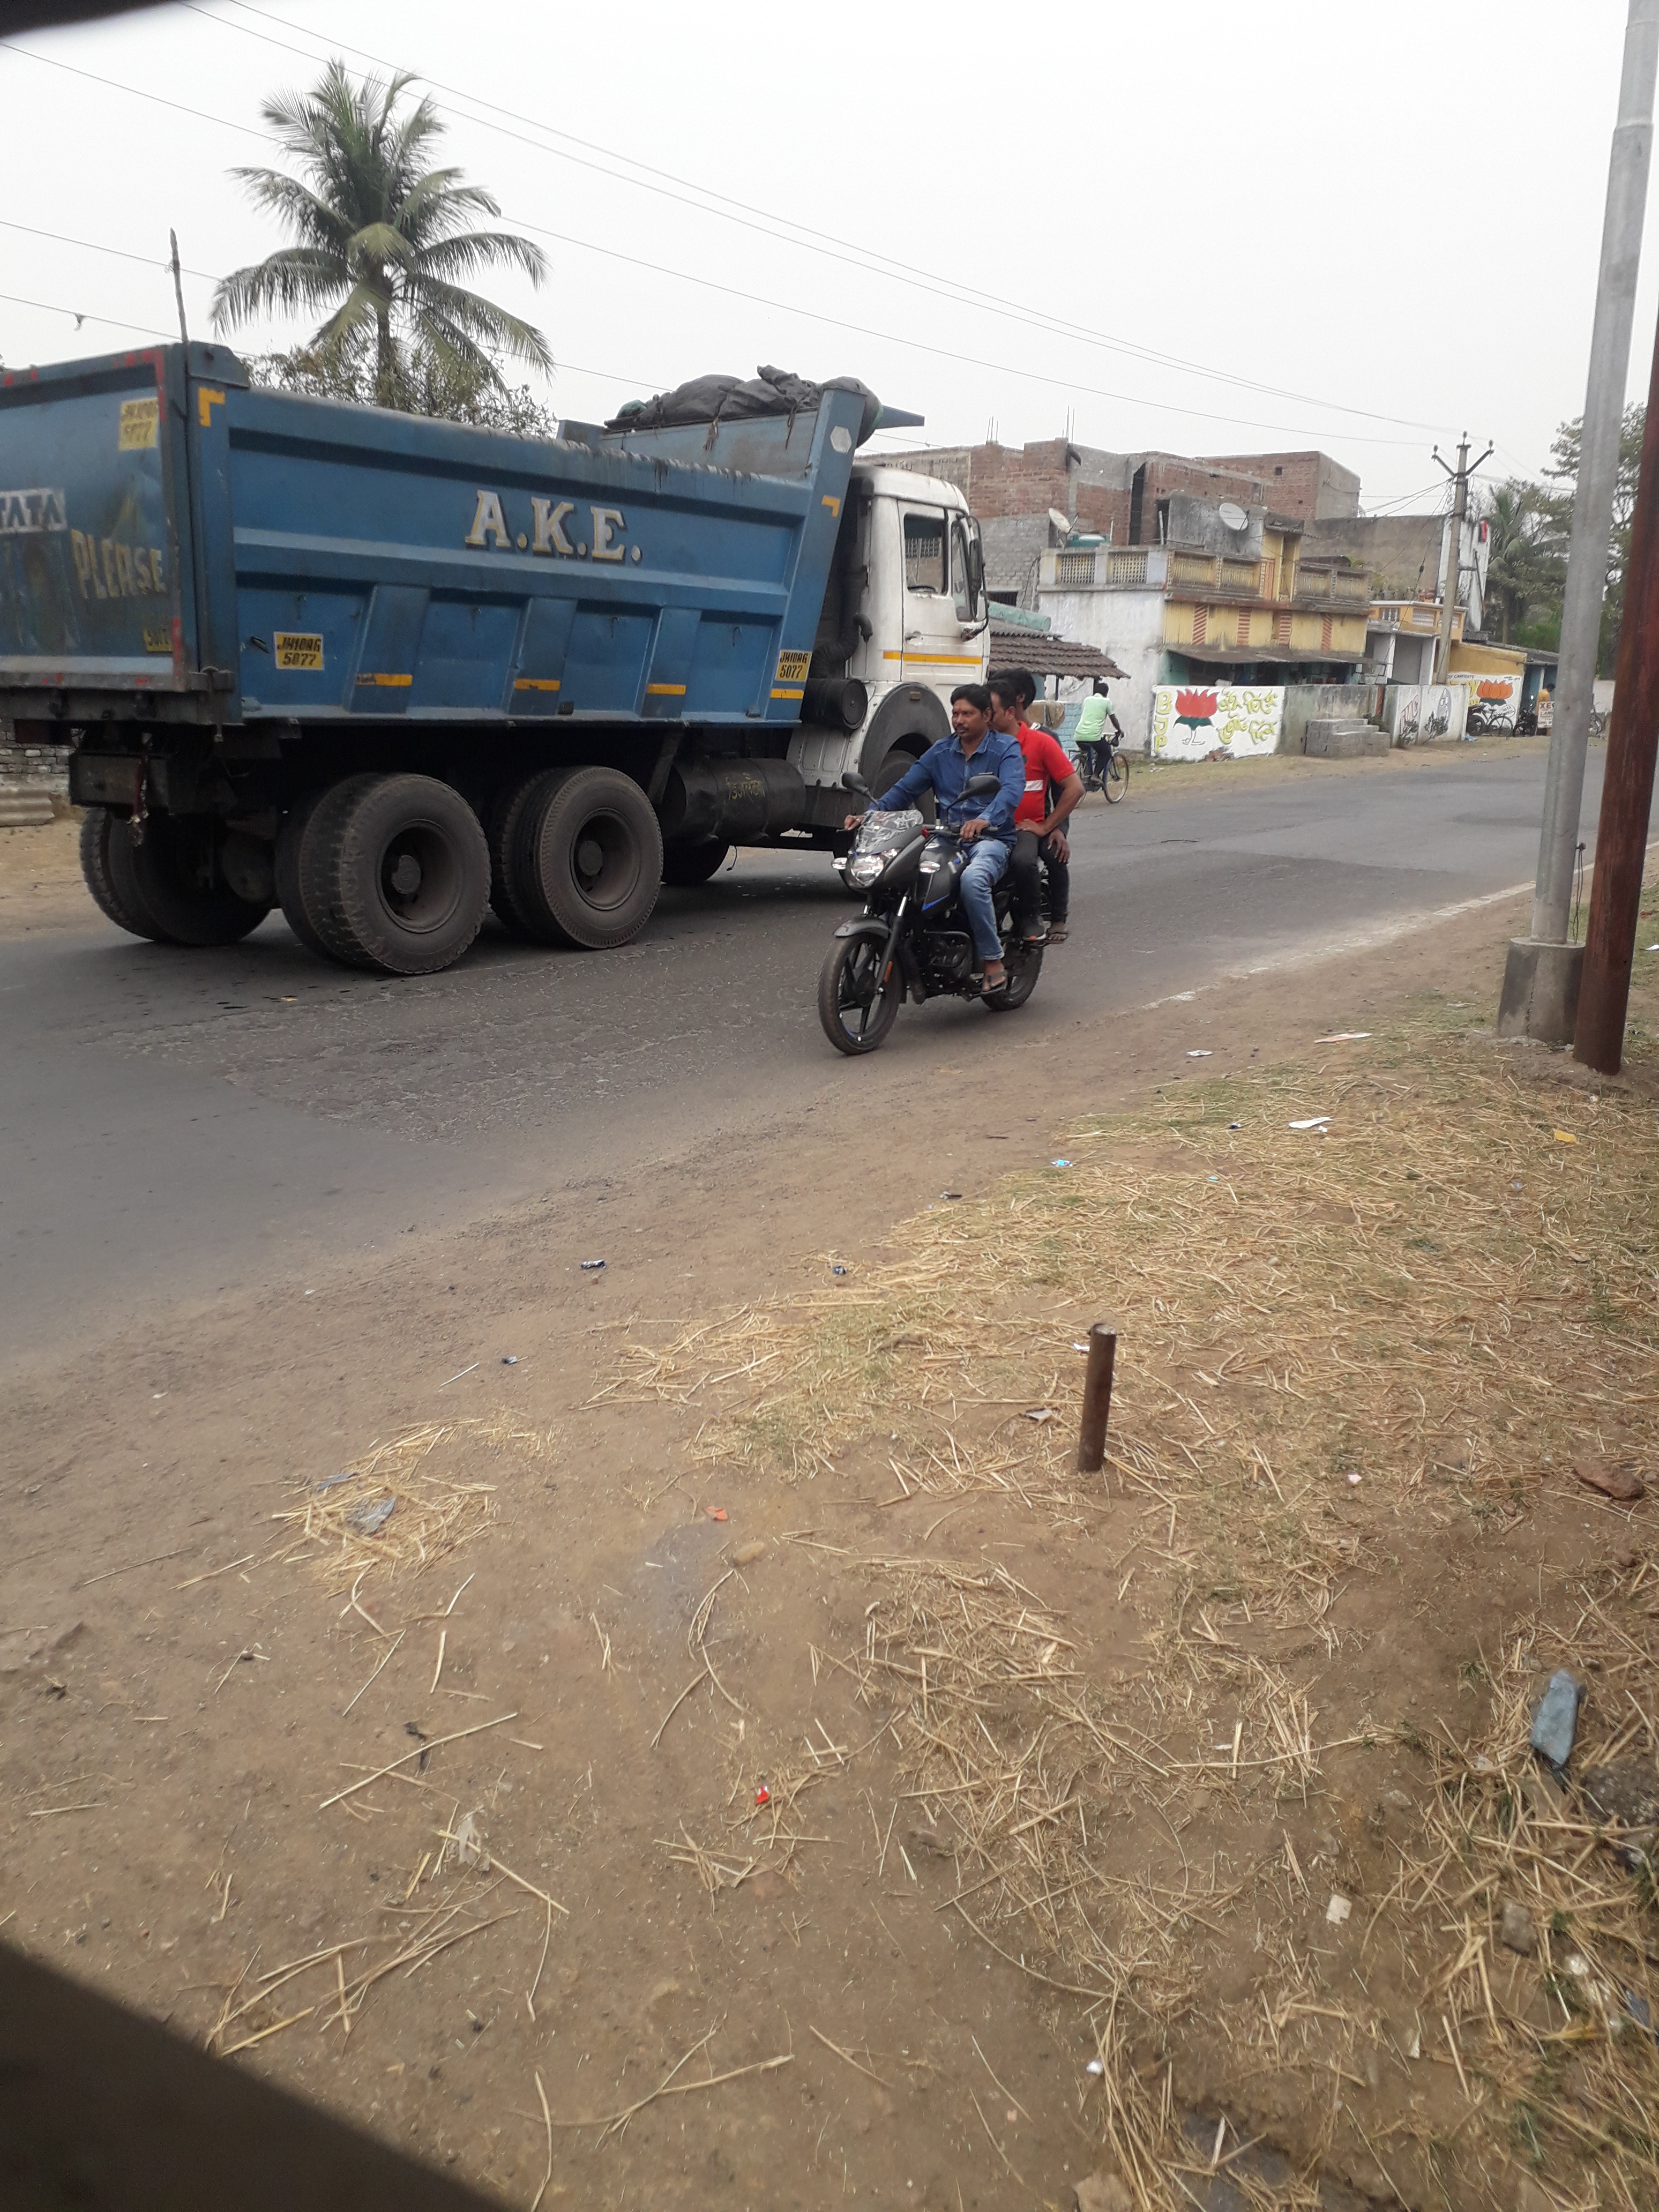truck: (0, 338, 999, 977)
